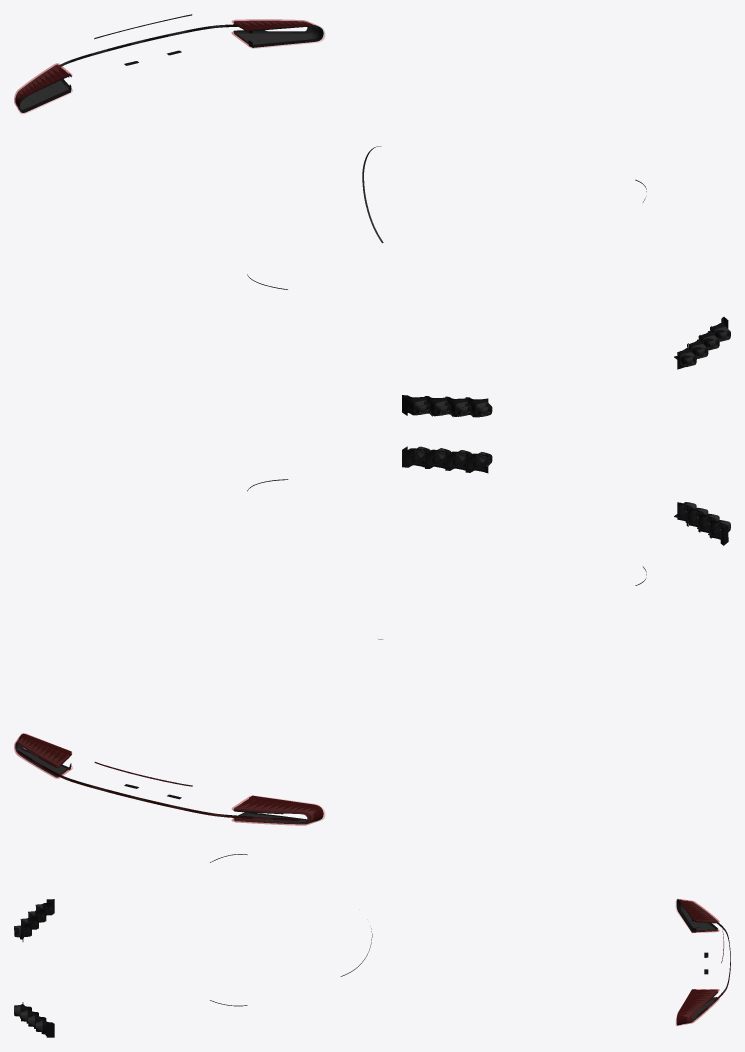
The model's file is bugotti_chiron_supersport.fbx.
3 renders of one model, top to bottom at view 1: azimuth 30°, elevation 25°; view 2: azimuth 150°, elevation 25°; view 3: azimuth 270°, elevation 25°, orthographic. The views are drawn at different scales.
Parts seen in each view (by area): view 1: Body_csBugatti_ChironSuperSpo, SeeThrough_red_glass; view 2: Body_csBugatti_ChironSuperSpo, SeeThrough_red_glass; view 3: Body_csBugatti_ChironSuperSpo, SeeThrough_red_glass.
Boxes of the visible parts, left/top/right/bottom form: Body_csBugatti_ChironSuperSpo: left=15, top=14, right=730, bottom=417; SeeThrough_red_glass: left=14, top=19, right=324, bottom=113; Body_csBugatti_ChironSuperSpo: left=15, top=446, right=730, bottom=824; SeeThrough_red_glass: left=14, top=733, right=324, bottom=825; Body_csBugatti_ChironSuperSpo: left=14, top=854, right=730, bottom=1037; SeeThrough_red_glass: left=676, top=899, right=729, bottom=1025.
Bounding box in the file's own units: 218 × 55.78 × 436.
